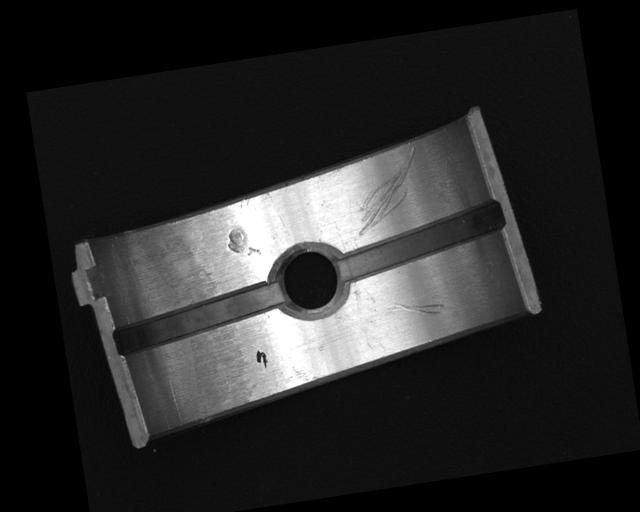blot: (254, 348, 268, 369)
bruise: (224, 223, 261, 259)
gap: (331, 200, 509, 283), (108, 282, 287, 357)
hole: (271, 241, 348, 323)
nick: (346, 147, 429, 237), (387, 296, 445, 322)
